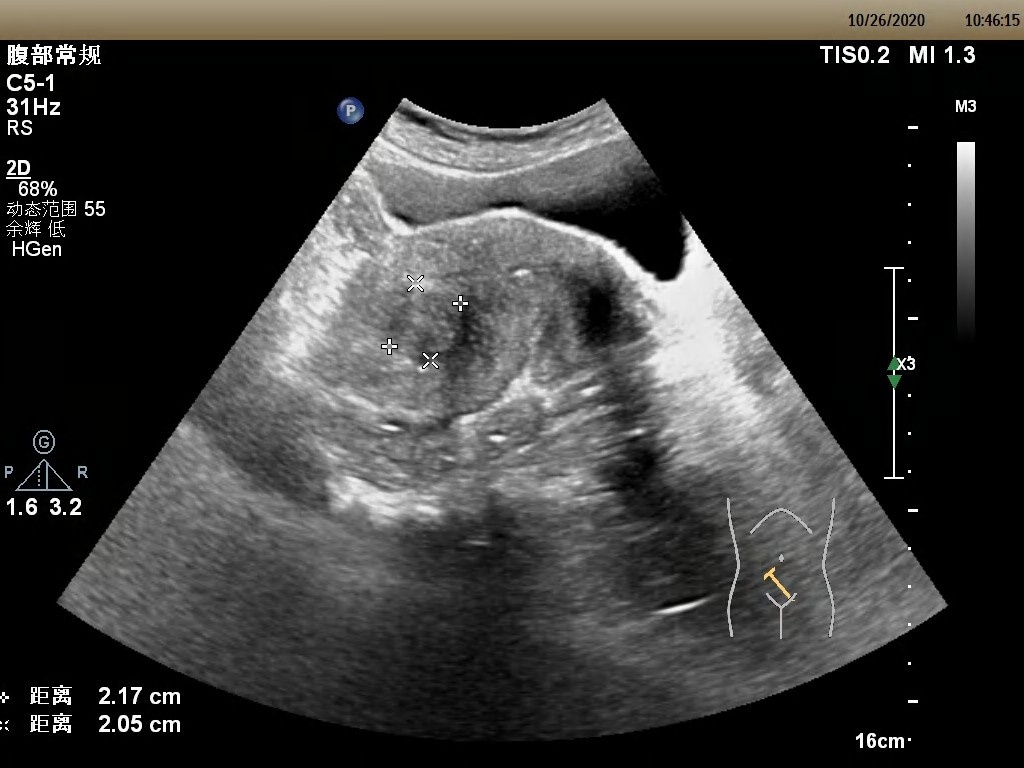肌瘤: (389, 296, 463, 361)
